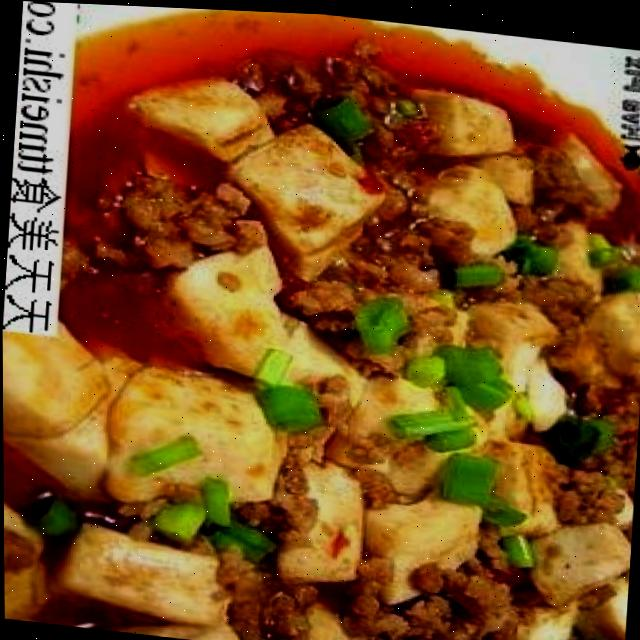豆腐料理: (13, 0, 640, 640)
